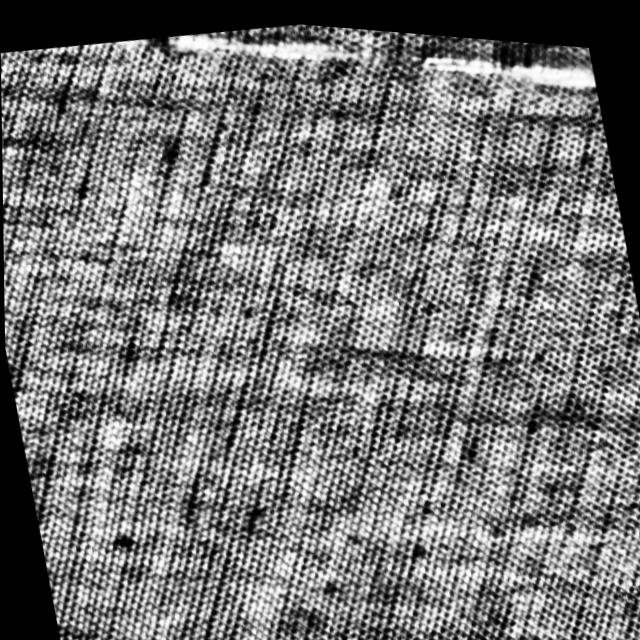Stitch: (101, 6, 600, 175)
